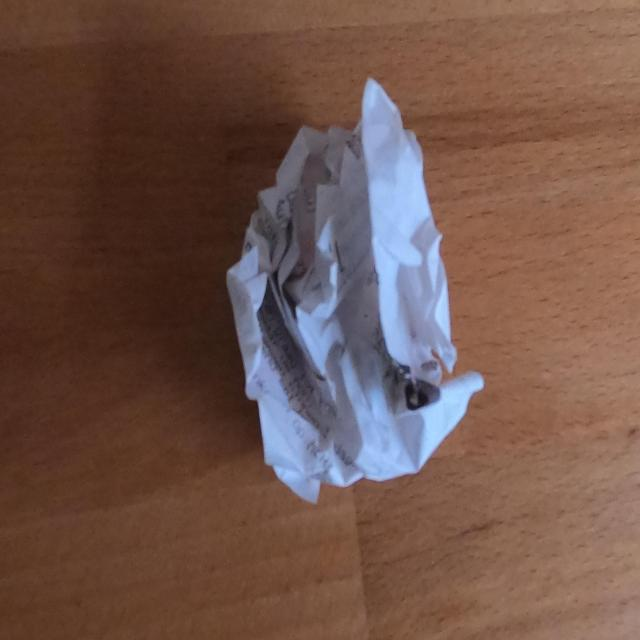Paper: (220, 70, 487, 510)
